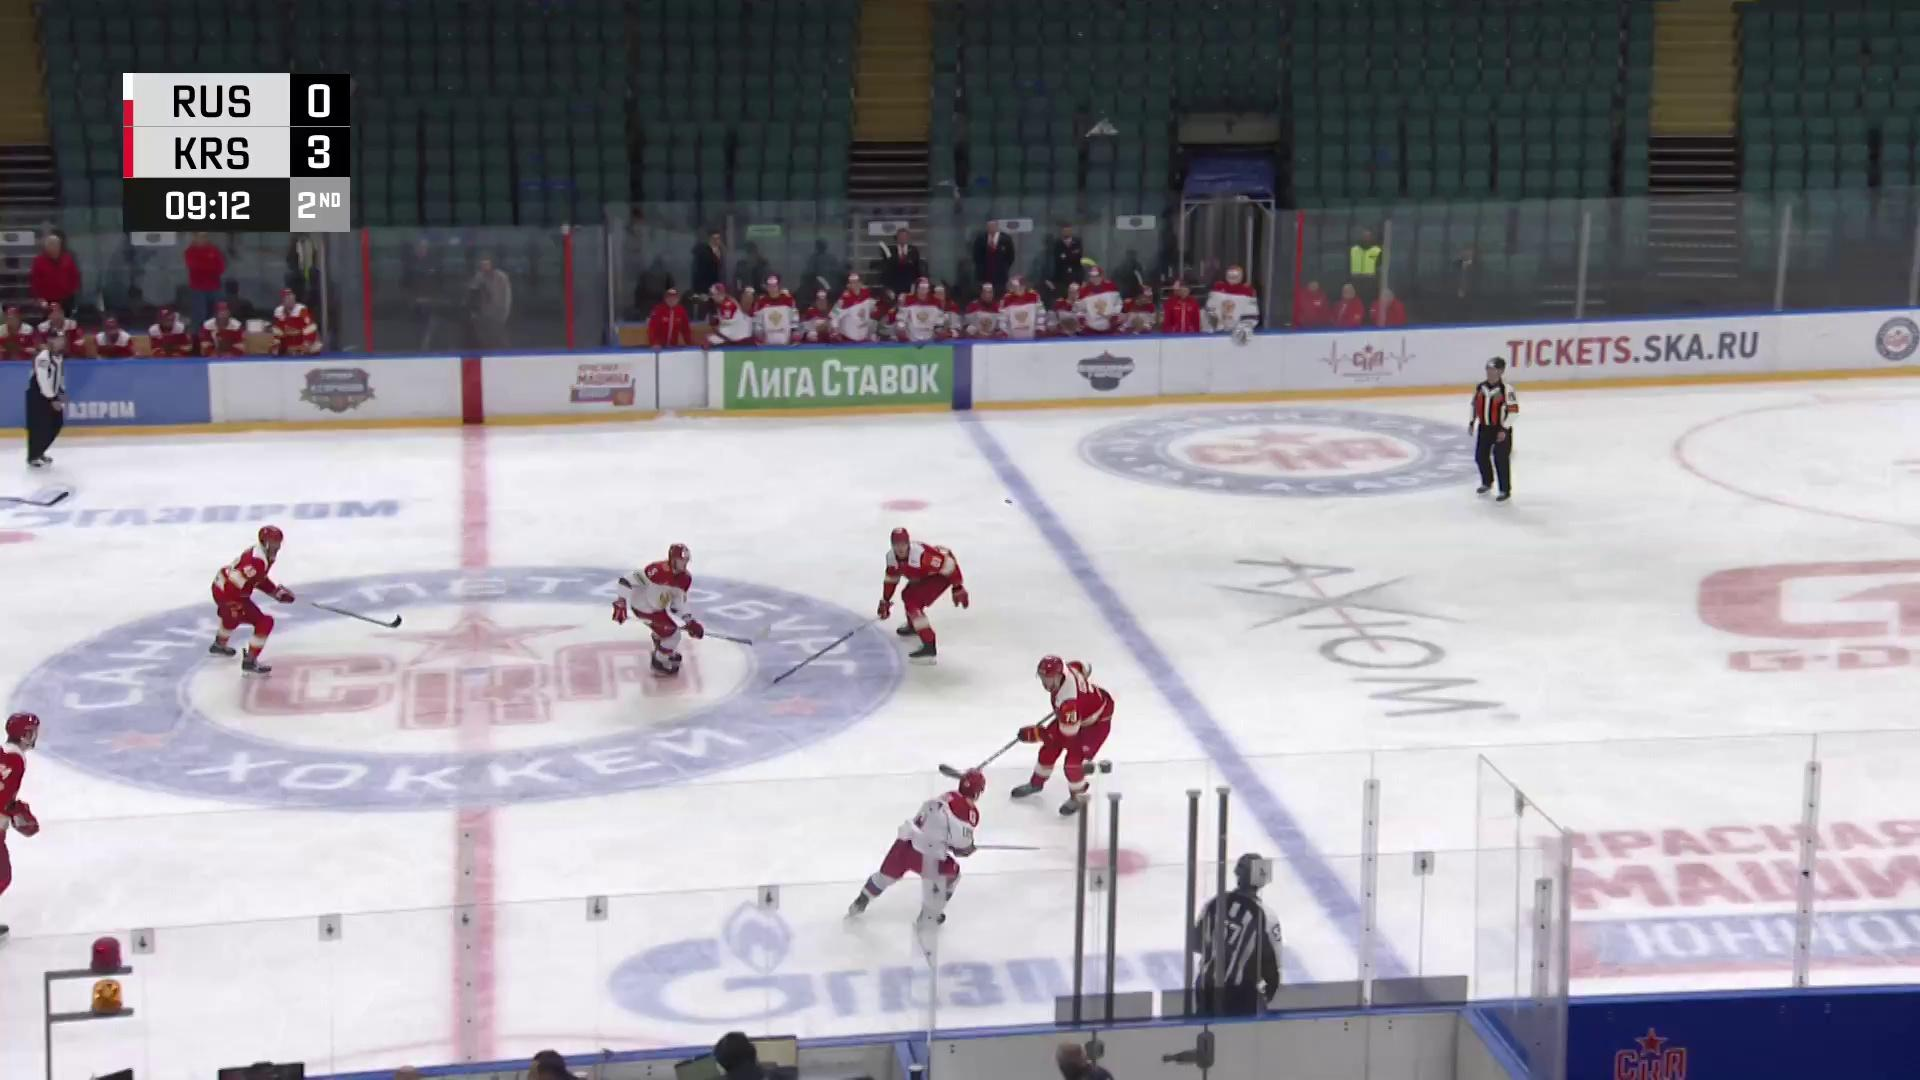ball: (1004, 498, 1014, 505)
